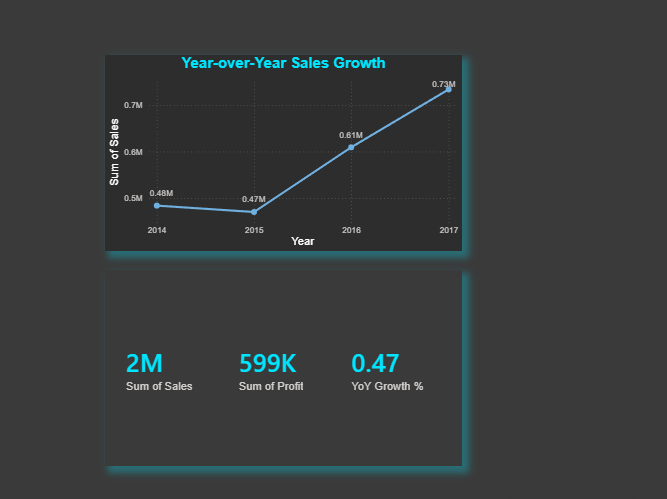

The dashboard page shown, as its layout file describes it:
{"tool":"powerbi","page":{"name":"YoY growth visualization","canvas":[1280,720],"ordinal":2},"visuals":[{"type":"lineChart","title":"Year-over-Year Sales Growth","fields":{"Category":["Sheet3.Order Date.Variation.Date Hierarchy.Year","Sheet3.Order Date.Variation.Date Hierarchy.Quarter","Sheet3.Order Date.Variation.Date Hierarchy.Month","Sheet3.Order Date.Variation.Date Hierarchy.Day"],"Y":["Sum(Sheet3.Sales)"]},"box":[244.3,80,510,280],"z":0},{"type":"cardVisual","fields":{"Data":["Sum(Sheet3.Sales)","Sum(Sheet3.Profit)","Sheet3.YoY Growth %"]},"box":[244.3,387.1,510,280],"z":1000}]}

Visuals, with their boxes on the page's 1280x720 design canvas (x1, y1, x2, y2). These are canvas units, not pixel positions in the 667x499 screenshot, which may show the page scaled, cropped or inside an application window:
"Year-over-Year Sales Growth" lineChart: {"left": 244, "top": 80, "right": 754, "bottom": 360}
cardVisual - Sum(Sheet3.Sales) x Sum(Sheet3.Profit): {"left": 244, "top": 387, "right": 754, "bottom": 667}
